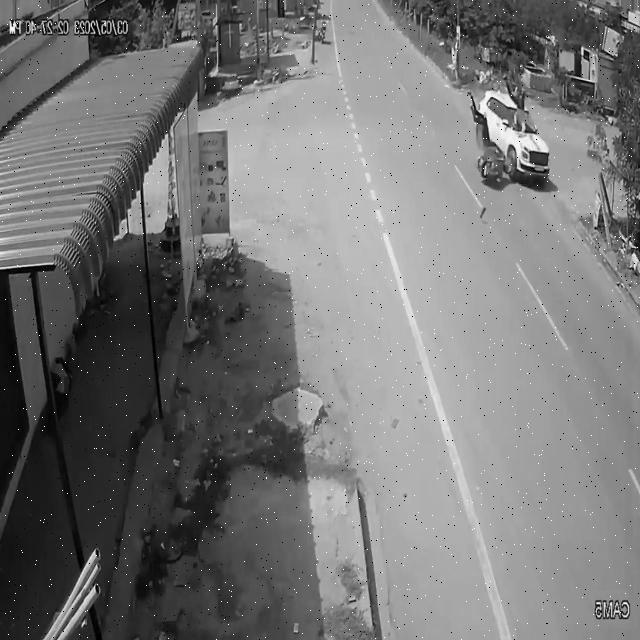accident: (463, 70, 557, 214)
